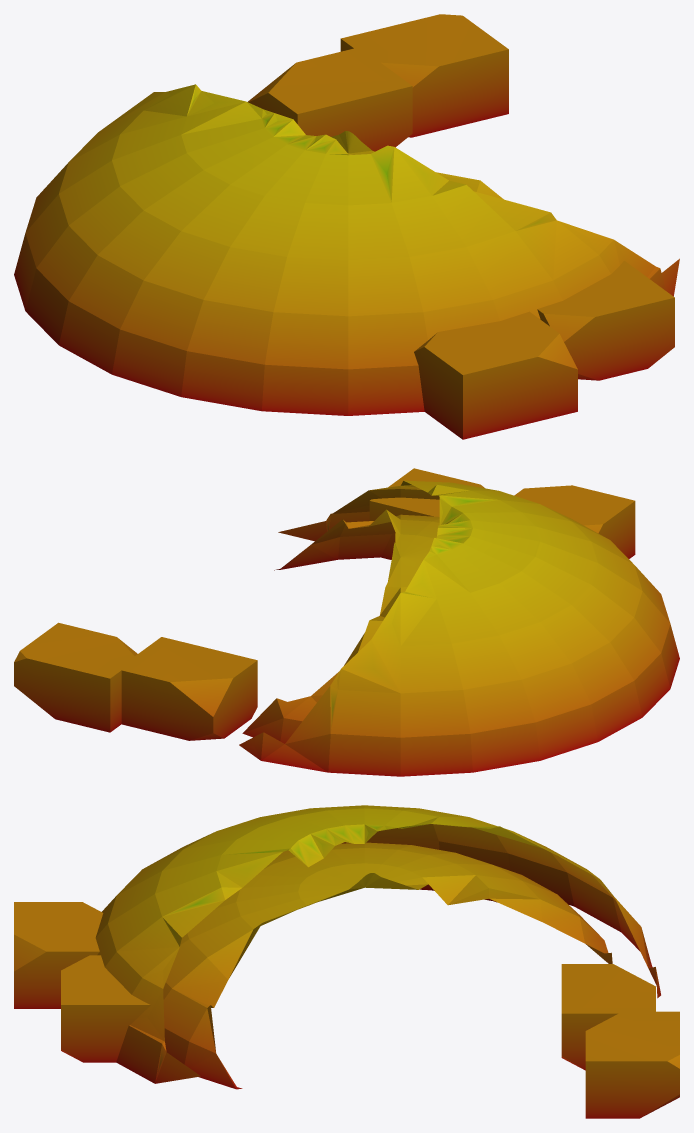
Rendered from dome_broken.glb.
3 renders of one model, top to bottom at view 1: azimuth 30°, elevation 25°; view 2: azimuth 150°, elevation 25°; view 3: azimuth 270°, elevation 25°, orthographic. The views are drawn at different scales.
Parts seen in each view (by area): view 1: dome_broken; view 2: dome_broken; view 3: dome_broken.
Boxes of the visible parts, x1,y1,x2,y2 form: dome_broken: [14, 14, 679, 439]; dome_broken: [14, 468, 679, 776]; dome_broken: [14, 805, 679, 1118].
Size of what is drawn, in the model's own units: 5.95 by 1.6 by 6.74.
